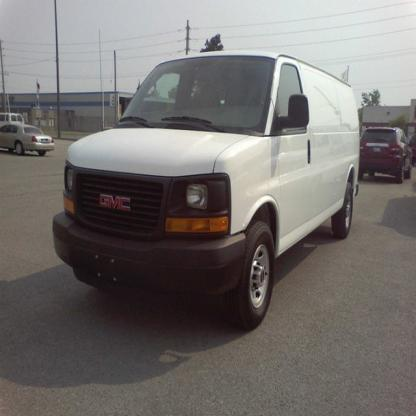Vehicle: (51, 49, 359, 330)
